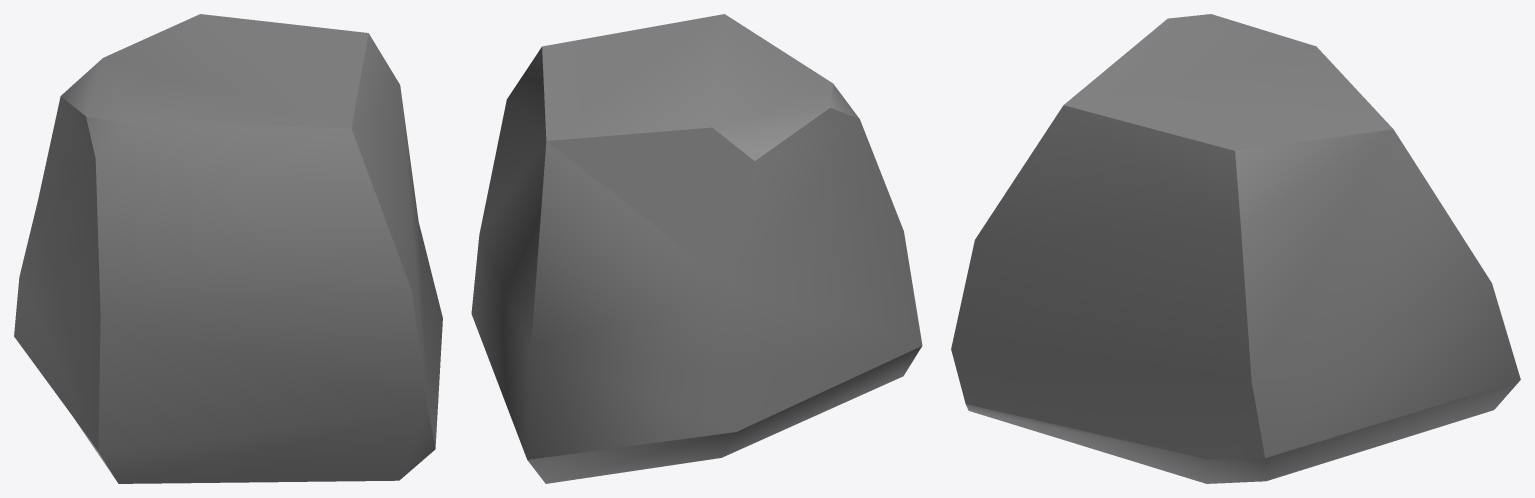
The model's file is Batu8.fbx.
3 views of the same model, side by side, from view 1: azimuth 30°, elevation 25°; view 2: azimuth 150°, elevation 25°; view 3: azimuth 270°, elevation 25° (orthographic). The views are drawn at different scales.
Parts seen in each view (by area): view 1: SM_Rocks_06; view 2: SM_Rocks_06; view 3: SM_Rocks_06.
Part boxes in pixels (x1,y1,x2,y2): SM_Rocks_06: (14, 14, 442, 483); SM_Rocks_06: (471, 14, 922, 483); SM_Rocks_06: (951, 14, 1520, 483).
Size of the model in its own units: 28.32 by 24.1 by 36.28.
